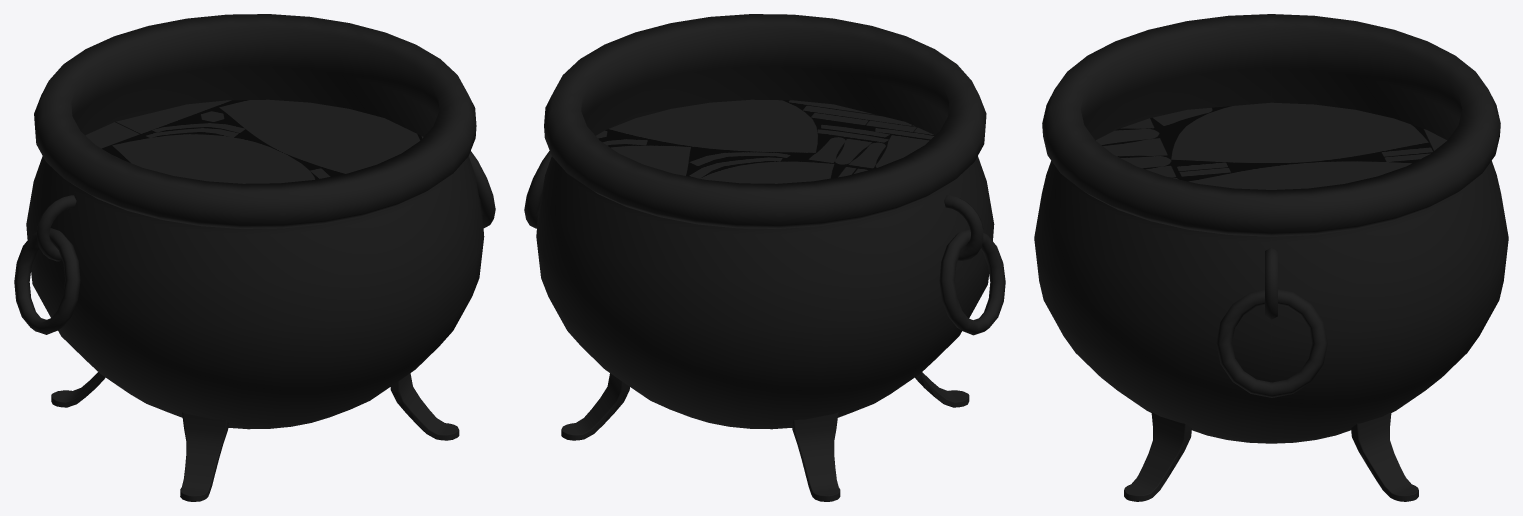
File: Cauldron Pot by Atom Six.fbx
The picture shows the model from 3 angles, left to right: view 1: azimuth 30°, elevation 25°; view 2: azimuth 150°, elevation 25°; view 3: azimuth 270°, elevation 25°; orthographic projection. The views are drawn at different scales.
Visible parts, largest first — view 1: Object_4; view 2: Object_4; view 3: Object_4.
Boxes of the visible parts, left/top/right/bottom form: Object_4: left=14, top=14, right=495, bottom=501; Object_4: left=524, top=14, right=1005, bottom=501; Object_4: left=1034, top=14, right=1508, bottom=501.
Size of the model in its own units: 50.88 by 34.02 by 45.02.
2 materials, 2 textured.
